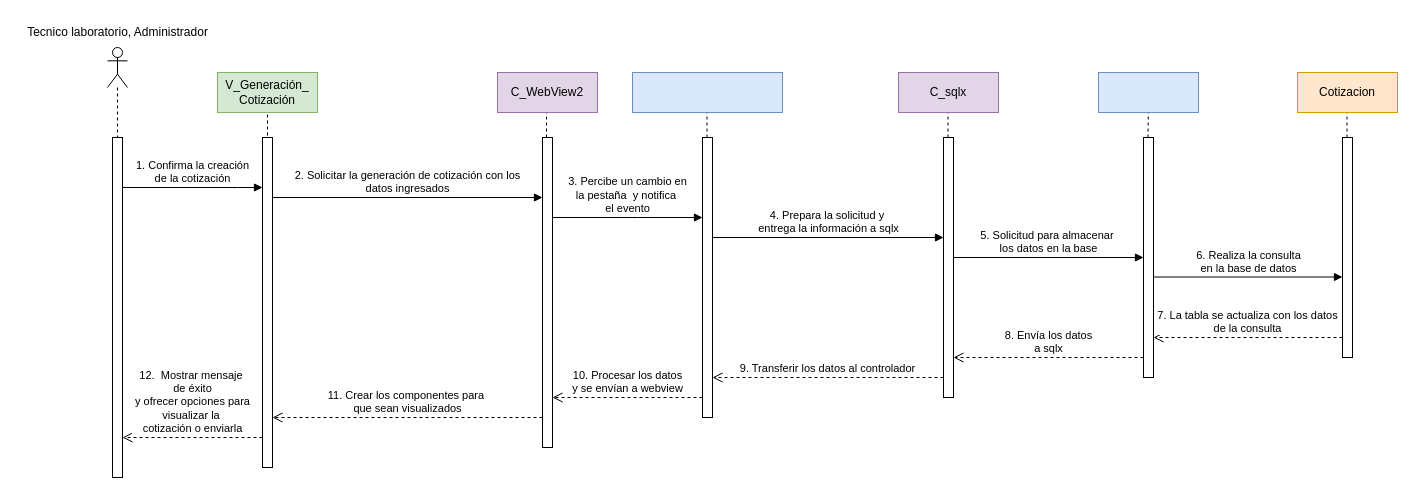
This 1415x495 diagram has some shape labels left out. The shapes that lost their labels are listed below. From the top down, each one's centre as x and y in pixels, then its label:
At point (707, 92): "C_Admin_Cotizaciones-TSX".
At point (1148, 92): "C_MySQL".
